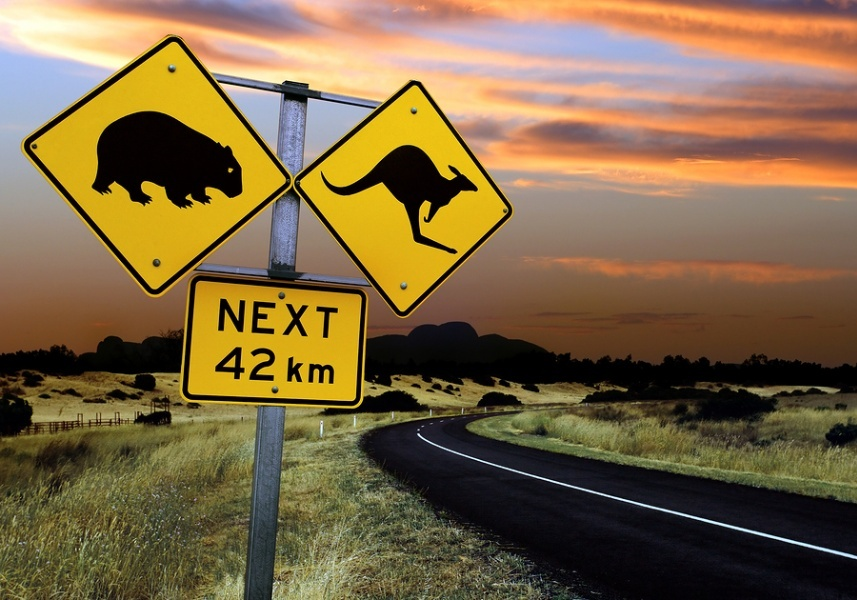text: (225, 297, 240, 341), (241, 297, 256, 341), (257, 297, 272, 341), (273, 297, 288, 341), (289, 297, 304, 341), (305, 297, 320, 341), (321, 297, 336, 341), (225, 345, 240, 383), (241, 345, 256, 383), (257, 345, 272, 383), (321, 354, 337, 386), (289, 354, 304, 386), (305, 354, 320, 386), (273, 345, 280, 383), (219, 297, 224, 341), (337, 297, 341, 341), (286, 354, 288, 386)
